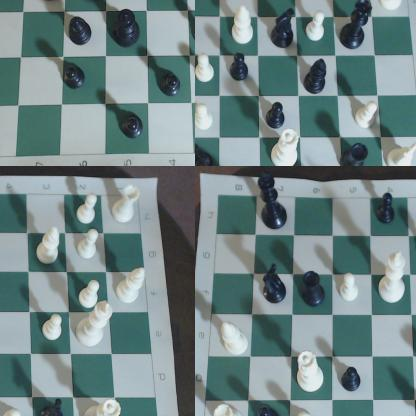black-bishop: (64, 12, 94, 47), (304, 57, 330, 97)
black-king: (255, 172, 291, 232), (115, 9, 145, 49)
black-knight: (260, 263, 290, 305), (270, 8, 297, 52), (38, 395, 68, 416), (196, 142, 217, 166)
black-pawn: (262, 100, 295, 130), (230, 50, 255, 88), (60, 65, 88, 96), (160, 73, 187, 104), (118, 115, 147, 143), (341, 365, 366, 396), (376, 191, 396, 229), (255, 403, 282, 416)
black-queen: (341, 1, 376, 54)
black-rook: (302, 271, 330, 312), (338, 144, 372, 166)
white-bishop: (114, 267, 149, 307), (229, 3, 258, 49), (221, 317, 250, 357), (36, 226, 63, 267)
white-king: (74, 302, 118, 350), (381, 249, 408, 305)
white-knight: (387, 141, 416, 166), (377, 1, 412, 16)
white-pawn: (75, 193, 105, 227), (196, 101, 220, 136), (305, 11, 328, 45), (79, 279, 104, 310), (79, 228, 101, 262), (355, 102, 378, 133), (198, 53, 219, 85), (340, 275, 361, 306), (41, 315, 66, 340), (1, 405, 27, 416), (292, 409, 321, 416)
white-queen: (293, 348, 326, 395), (271, 127, 303, 166), (85, 397, 125, 416)
white-rook: (111, 181, 143, 227), (211, 404, 246, 416)
